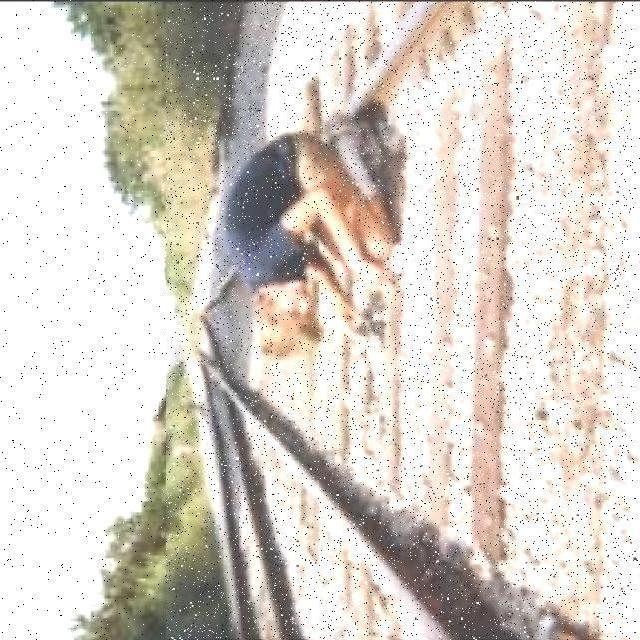rail: (168, 4, 636, 640)
